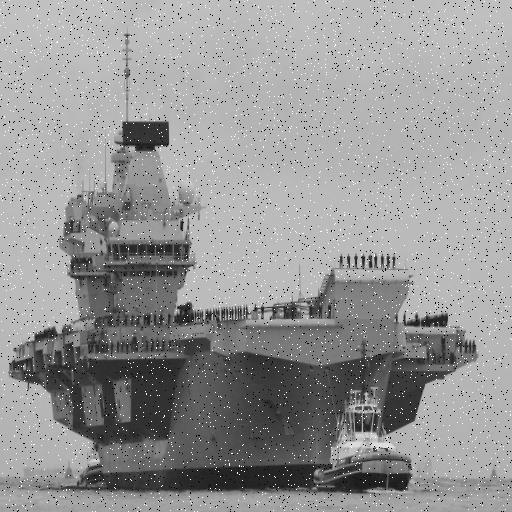Portanaves: (8, 27, 481, 498)
